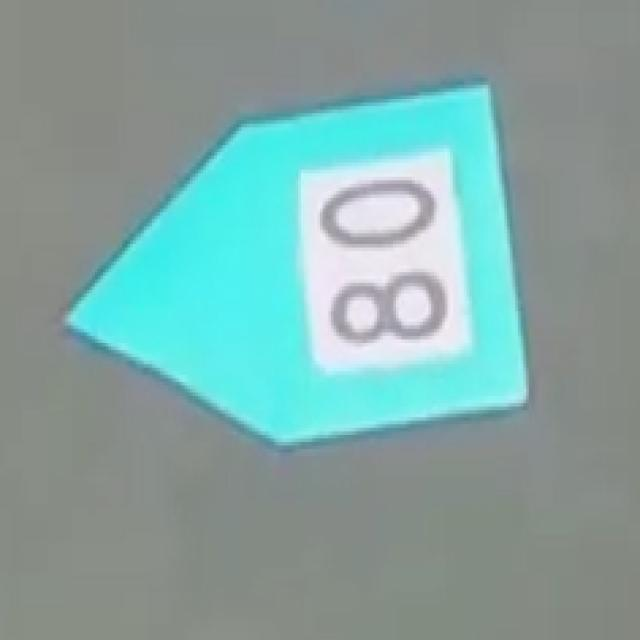board: (56, 84, 528, 454)
